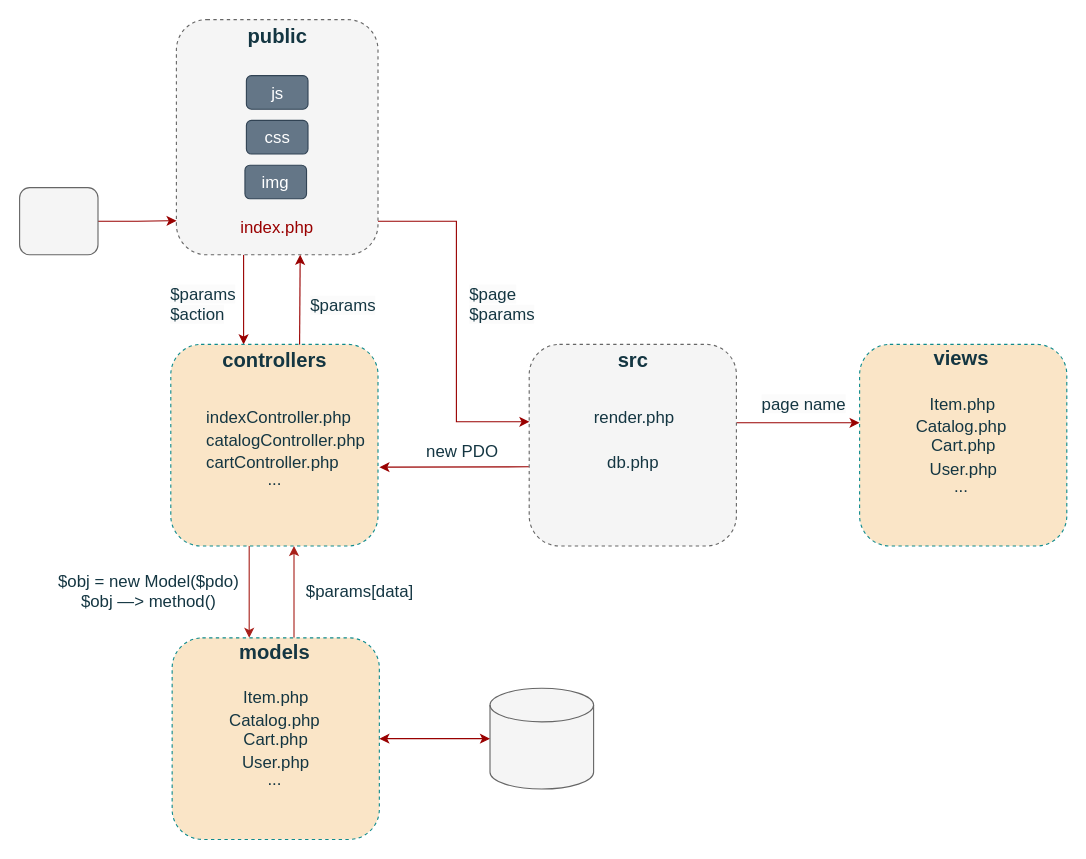
This 1086x859 diagram has some shape labels left out. Each missing label, with the centre of its shape:
"config" belongs at point 58,220.
"database" belongs at point 541,738.
